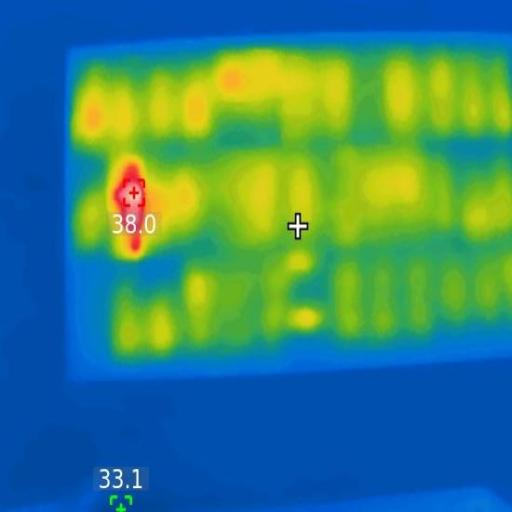hotspot: (117, 166, 147, 251)
